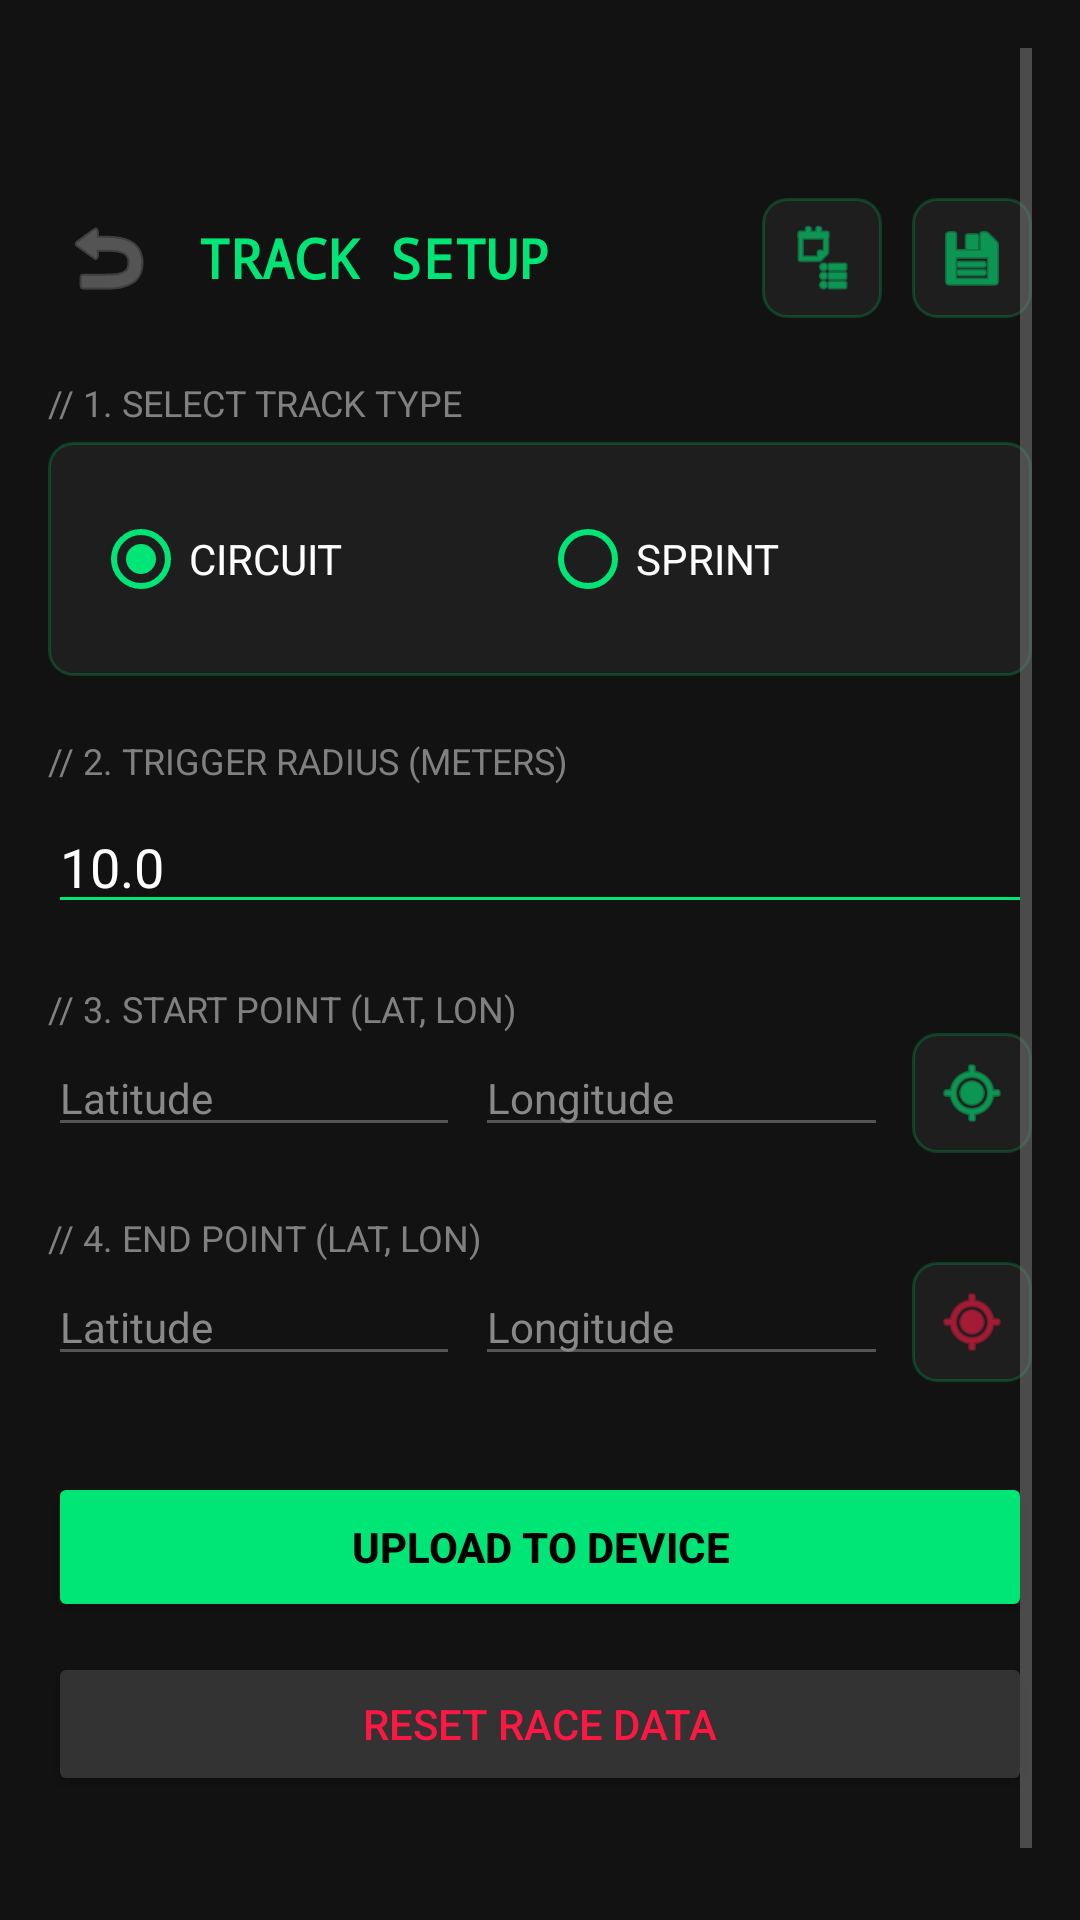

Locate icon controls on the screen. Image size 1080px×1920px, boxes as (x1, y1, x2, y2).
agenda: (762, 198, 882, 318)
mylocation: (912, 1033, 1032, 1153), (912, 1262, 1032, 1382)
revert: (75, 228, 143, 290)
save: (945, 231, 999, 286)
